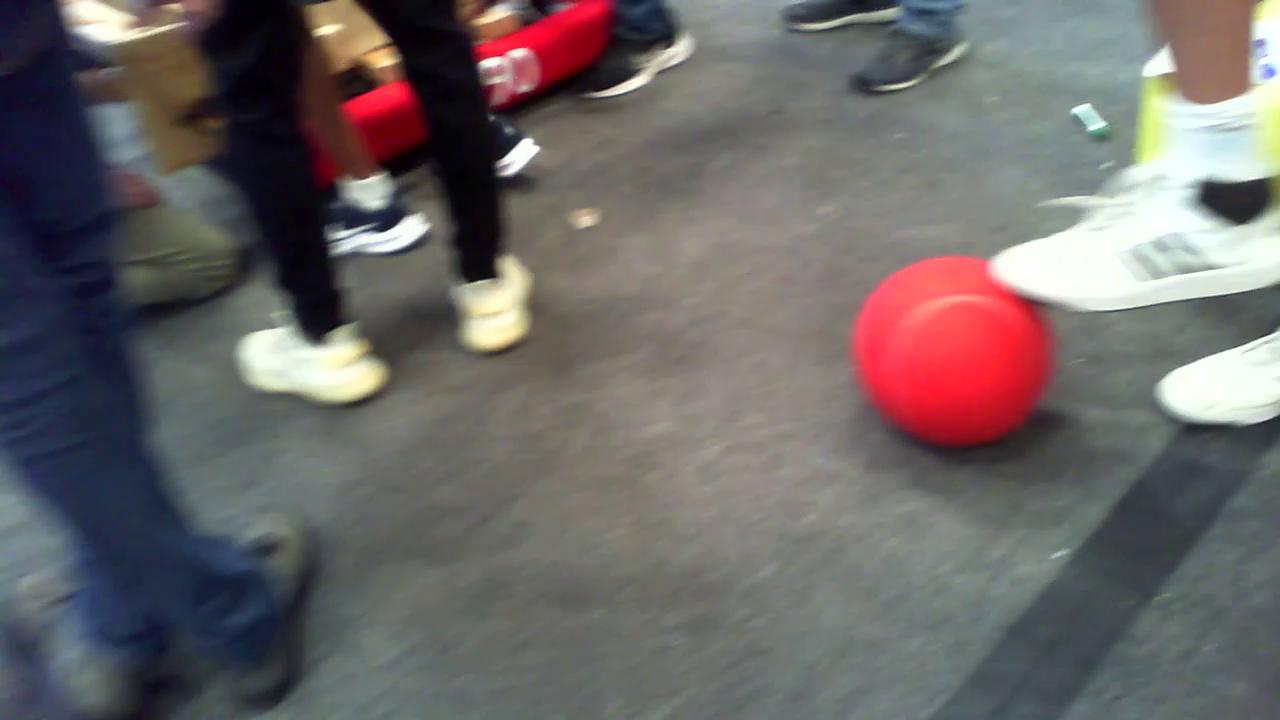Red_Ball: (844, 237, 1062, 456)
